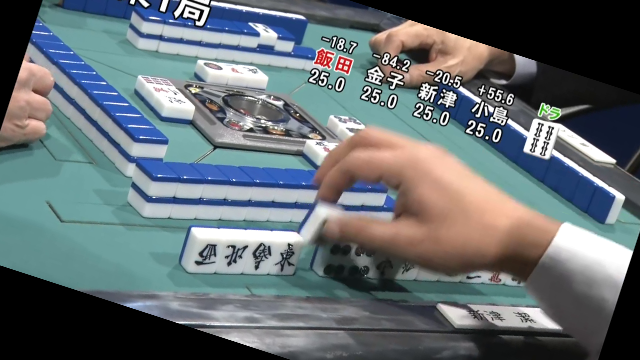Tehai: (176, 216, 544, 295), (174, 222, 519, 293)
